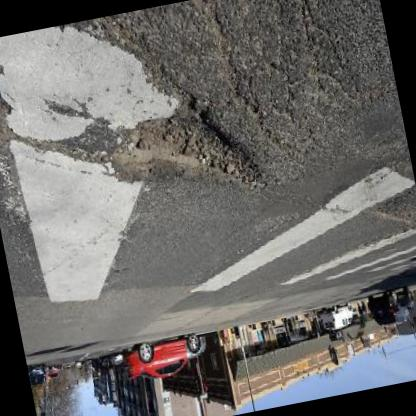pothole: (90, 86, 271, 226)
